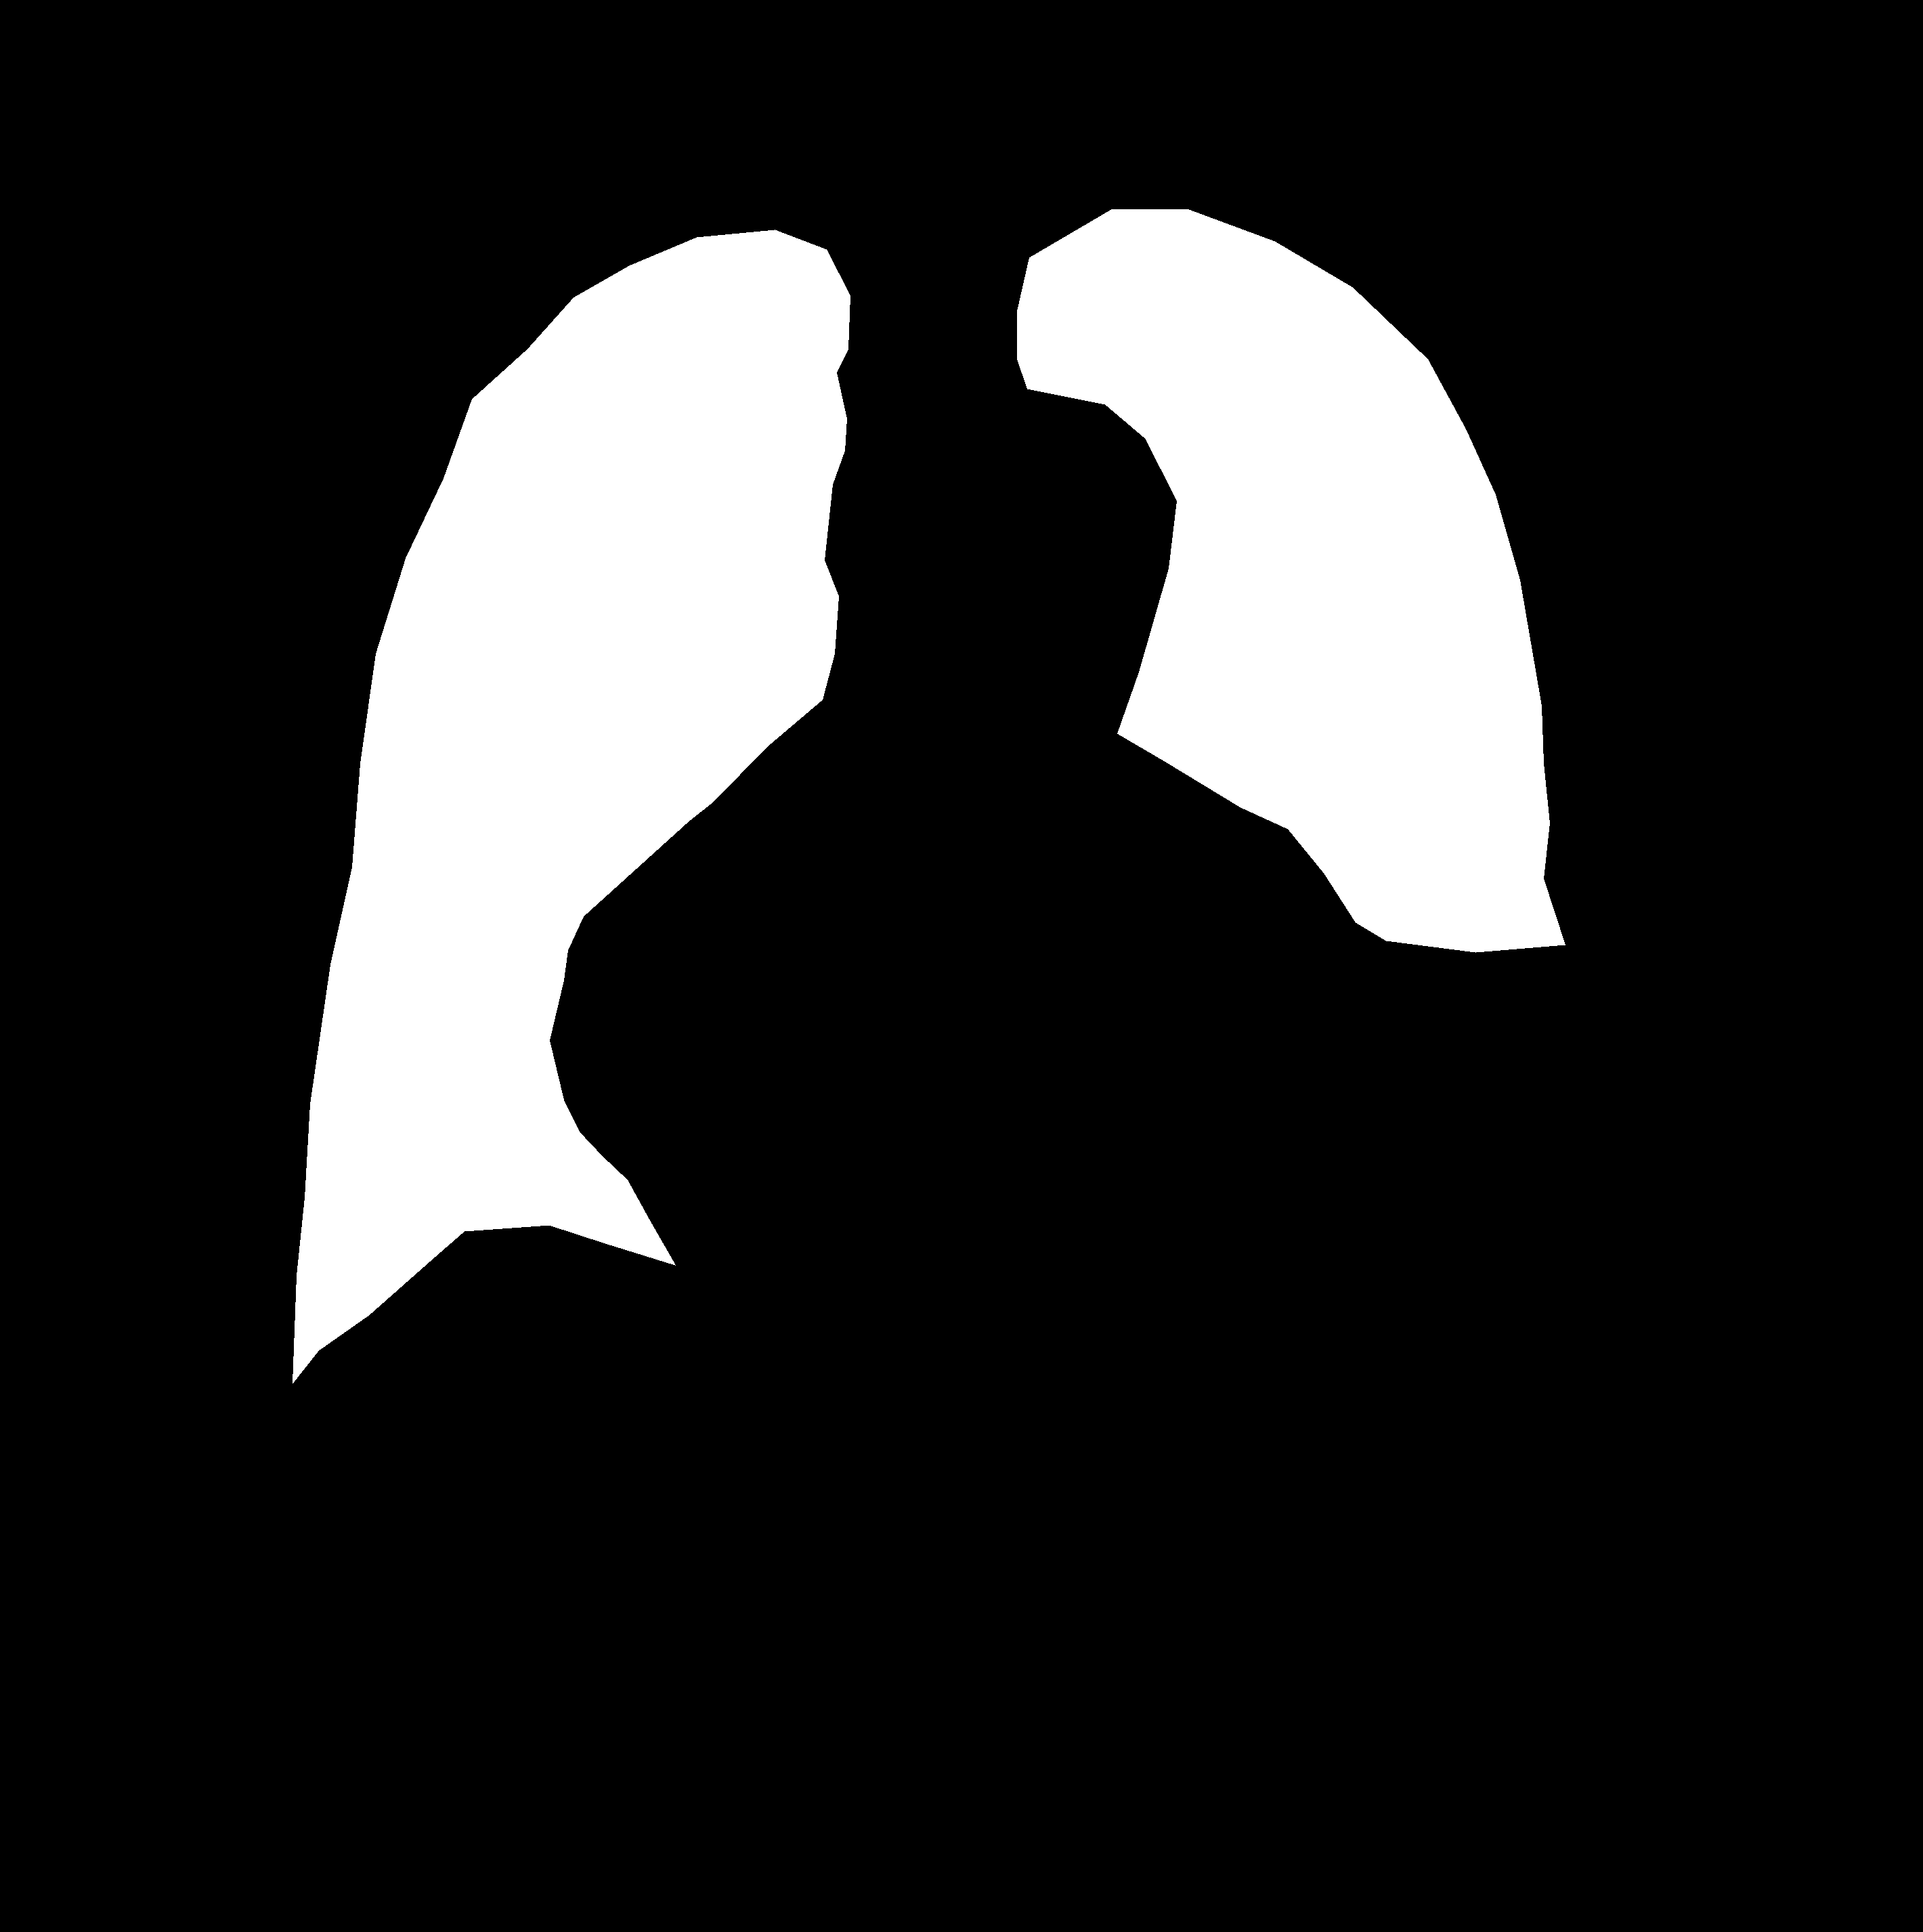heart: (548, 641, 1352, 1333)
left_lung: (292, 229, 851, 1383)
right_lung: (1018, 210, 1566, 953)
